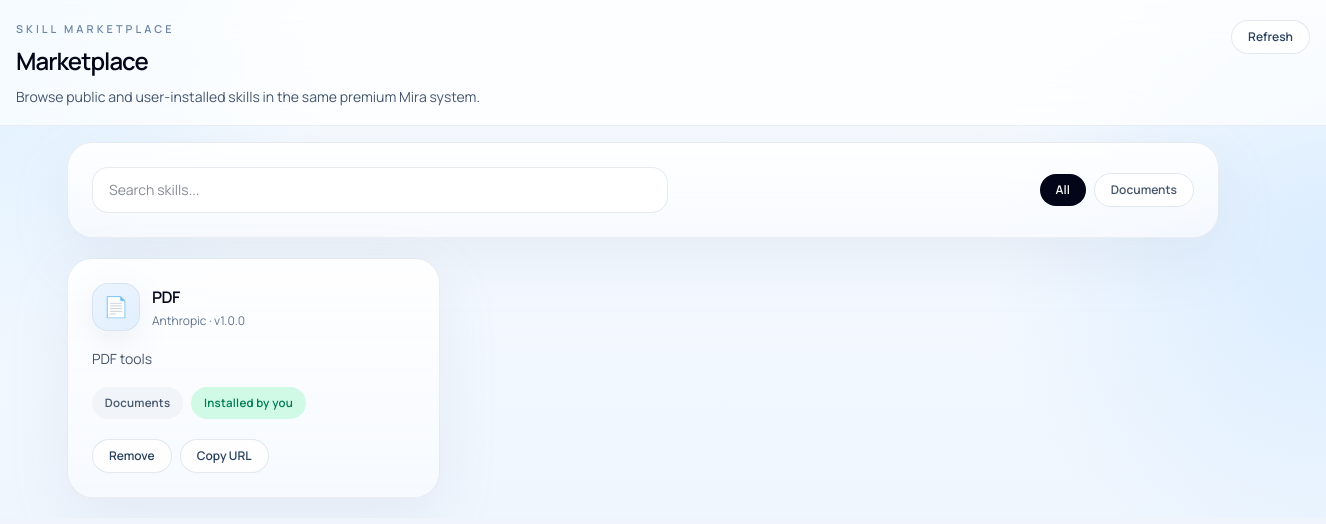
Test: MarketplacePage skill lifecycle › refreshes the installed state across remove and reinstall flows
Expected: the heading "PDF" is shown, [152,286,180,308]
Click the button "Remove": coordinates (132, 456) [92,439,172,473]
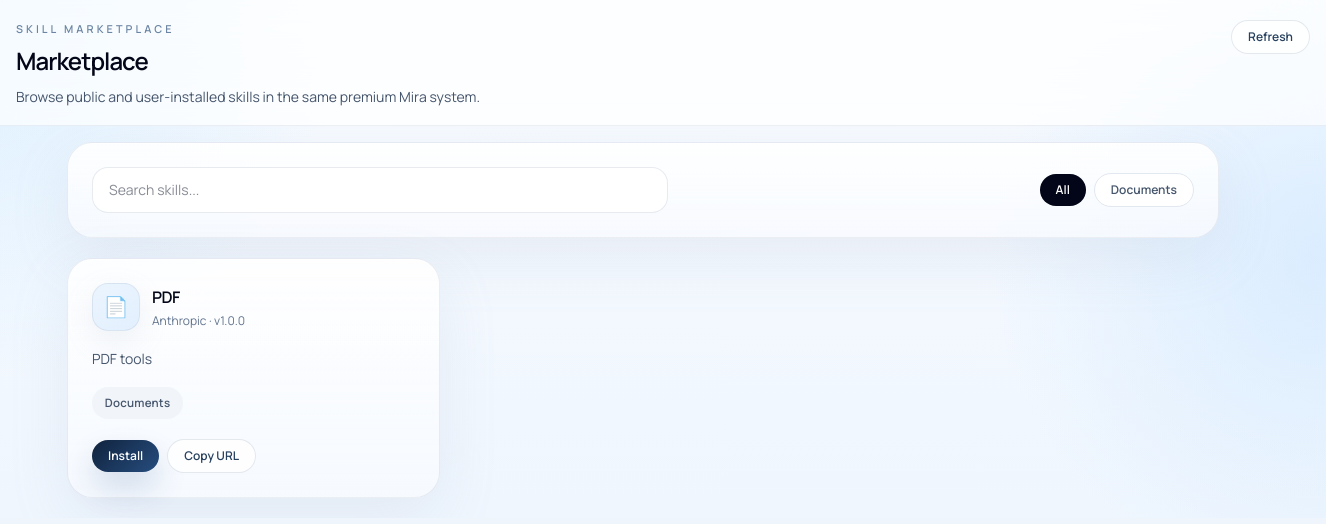
Click the button "Install": coordinates (126, 456) [92,440,159,472]
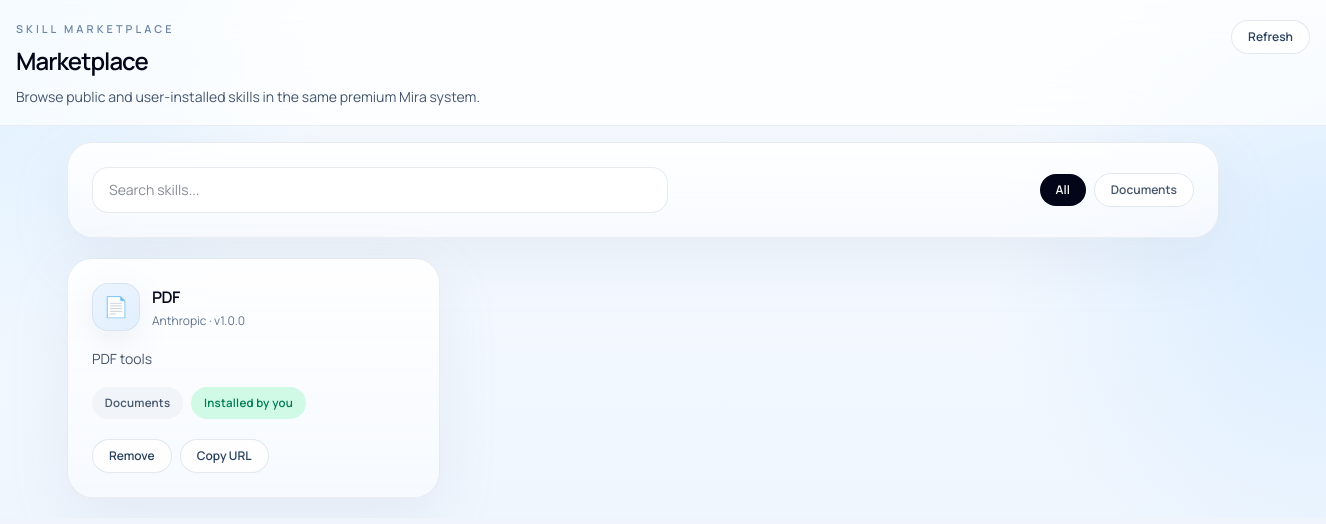
Expected: the button "Remove" is shown, [92,439,172,473]
